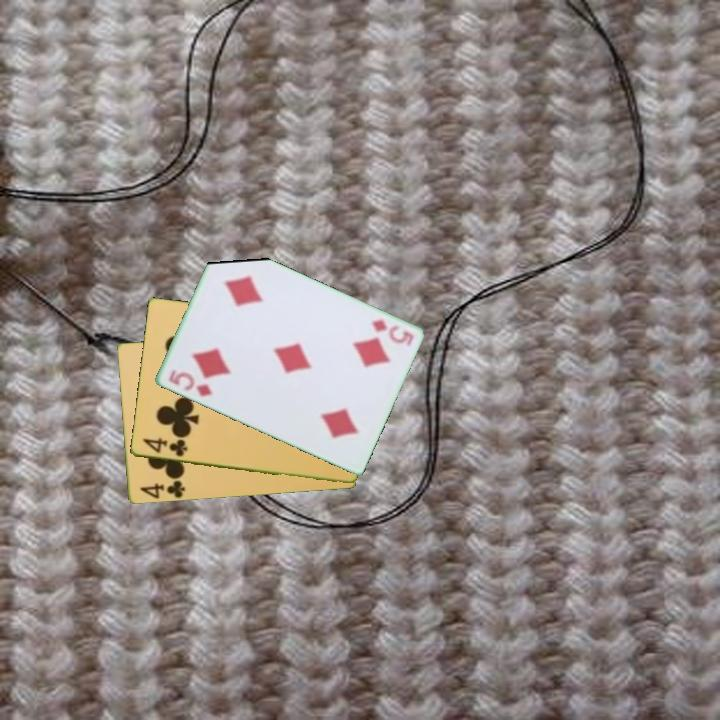4c: (139, 434, 190, 460), (136, 477, 188, 501)
5d: (165, 366, 216, 400), (368, 316, 416, 349)
